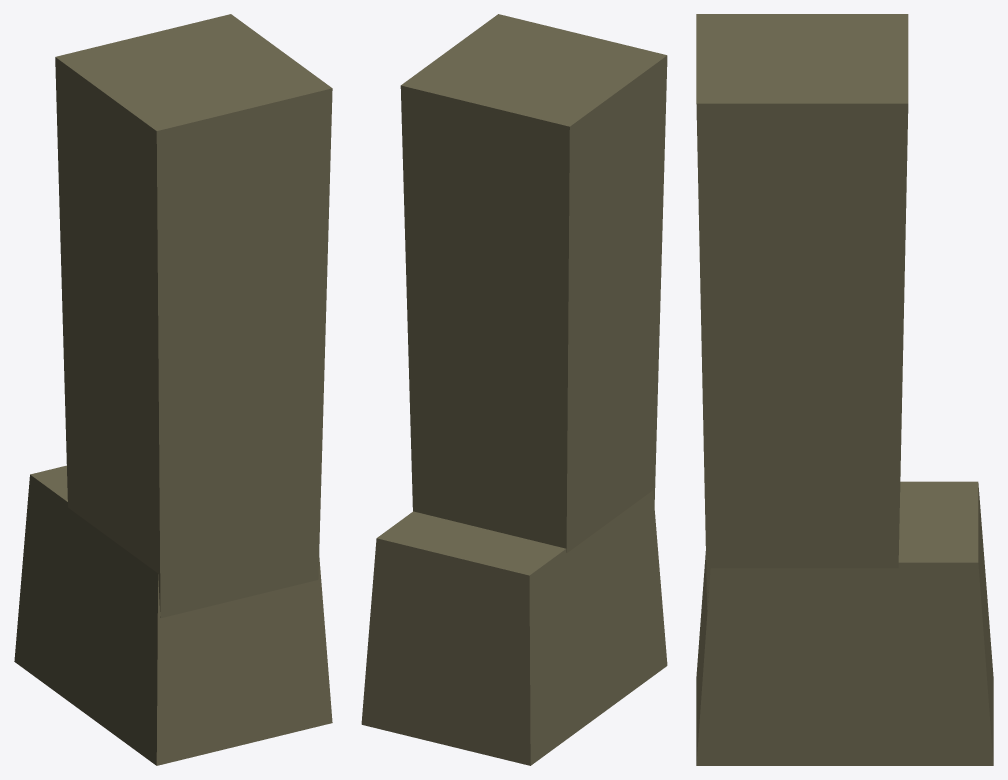
File: animal_locust_leg.obj
3 renders of one model, left to right at view 1: azimuth 30°, elevation 25°; view 2: azimuth 150°, elevation 25°; view 3: azimuth 270°, elevation 25°, orthographic. The views are drawn at different scales.
Visible parts, largest first — view 1: animal_locust_leg; view 2: animal_locust_leg; view 3: animal_locust_leg.
Boxes of the visible parts, x1=… form: animal_locust_leg: x1=14, y1=14, x2=332, y2=765; animal_locust_leg: x1=361, y1=14, x2=667, y2=765; animal_locust_leg: x1=696, y1=14, x2=993, y2=765.
Size of the model in its own units: 0.0336 by 0.1159 by 0.0471.
